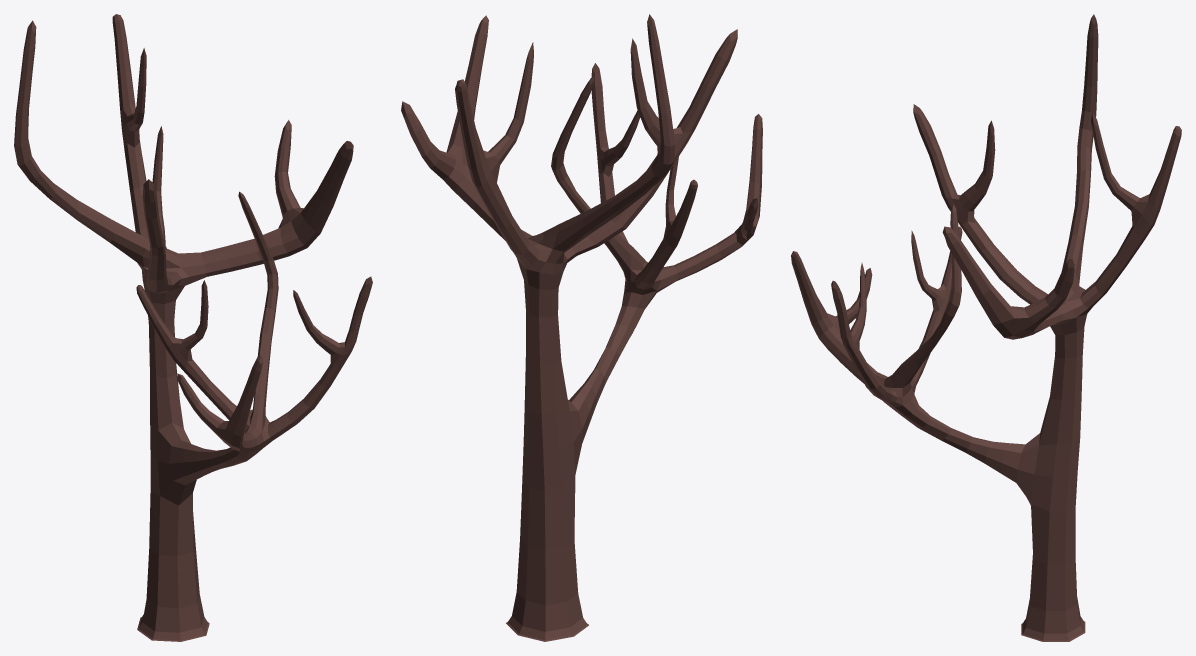
3 views of the same model, side by side, from view 1: azimuth 30°, elevation 25°; view 2: azimuth 150°, elevation 25°; view 3: azimuth 270°, elevation 25° (orthographic). The views are drawn at different scales.
Parts seen in each view (by area): view 1: CommonTree_Dead_2; view 2: CommonTree_Dead_2; view 3: CommonTree_Dead_2.
Part boxes in pixels (<box>): CommonTree_Dead_2: <box>14,14,372,641</box>; CommonTree_Dead_2: <box>401,14,762,641</box>; CommonTree_Dead_2: <box>791,14,1181,641</box>.
Bounding box in the file's own units: 1.33 × 2.96 × 1.86.
